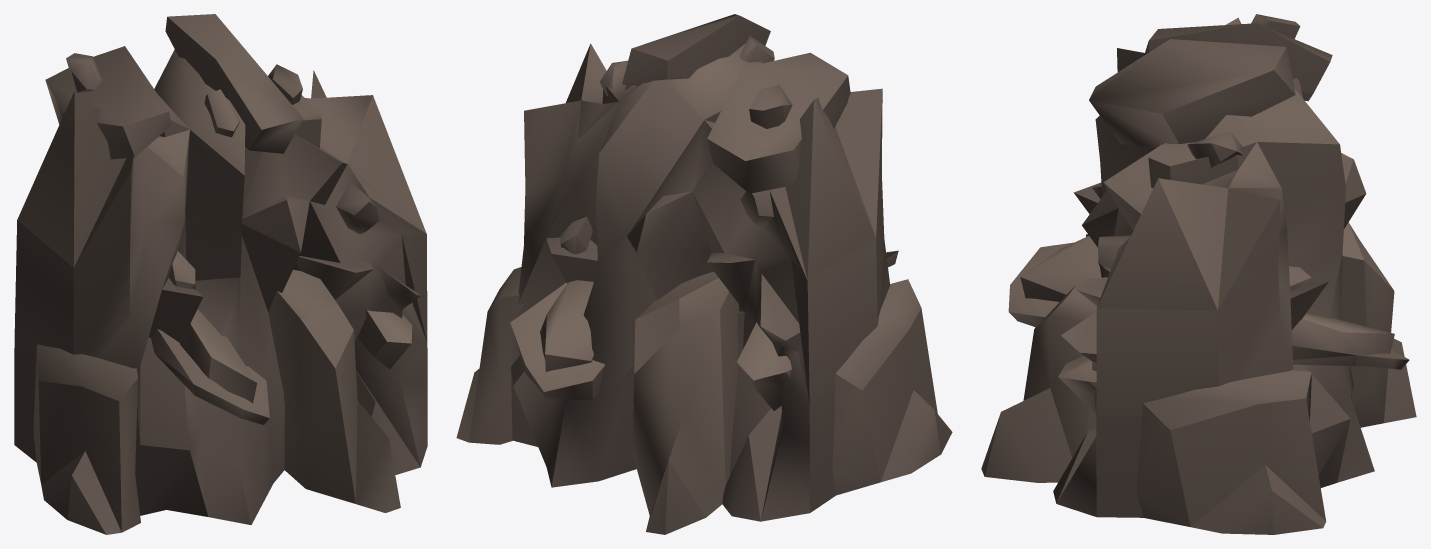
The model's file is rubble.glb.
3 views of the same model, side by side, from view 1: azimuth 30°, elevation 25°; view 2: azimuth 150°, elevation 25°; view 3: azimuth 270°, elevation 25° (orthographic). The views are drawn at different scales.
Visible parts, largest first — view 1: rubble_large; view 2: rubble_large; view 3: rubble_large.
Boxes of the visible parts, x1=… form: rubble_large: x1=14, y1=14, x2=427, y2=534; rubble_large: x1=456, y1=14, x2=952, y2=534; rubble_large: x1=981, y1=14, x2=1416, y2=534.
Bounding box in the file's own units: 1 × 1 × 1.
1 material, 1 textured.
